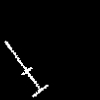double_crochet: (5, 41, 47, 96)
